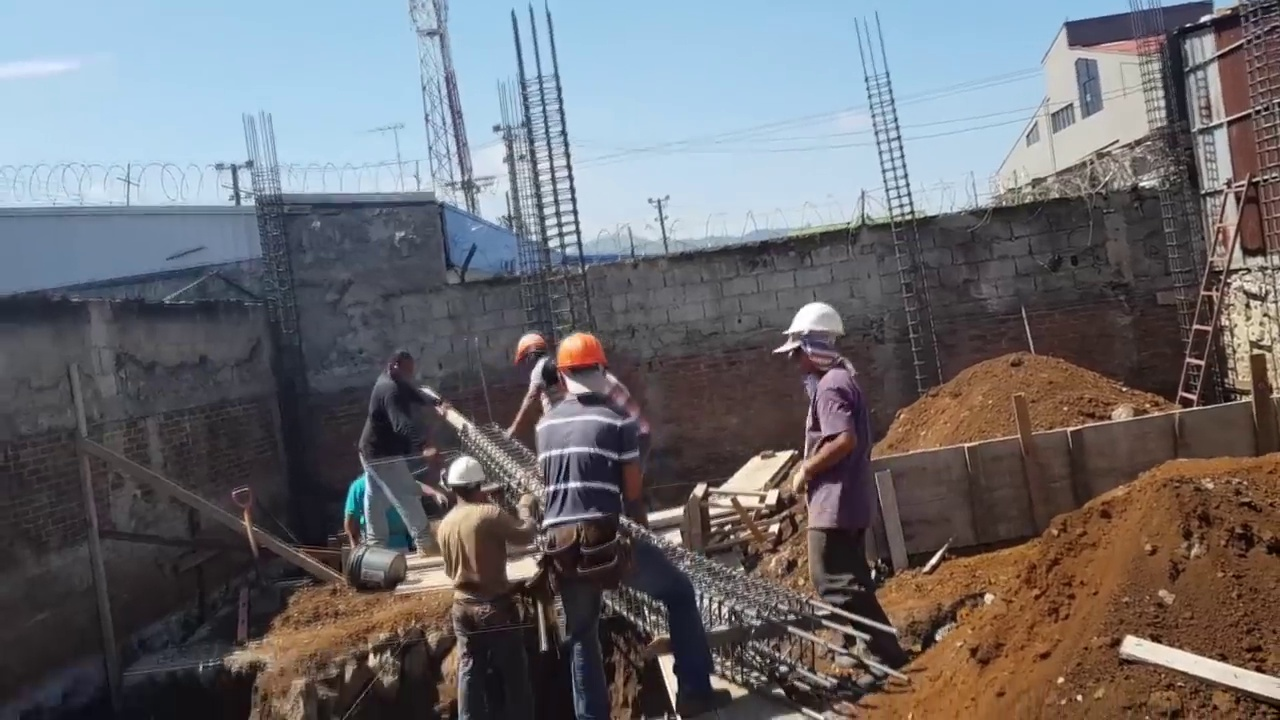helmet: (780, 306, 844, 345), (554, 334, 612, 374), (444, 456, 488, 490), (514, 331, 547, 363)
helmet-off: (382, 356, 411, 390)
helmet-on: (778, 297, 852, 388), (553, 334, 613, 402), (443, 460, 489, 511), (514, 331, 549, 373)
person: (535, 327, 730, 720), (774, 297, 910, 691), (434, 448, 542, 720), (502, 330, 653, 475), (357, 350, 444, 570), (343, 469, 444, 562)
